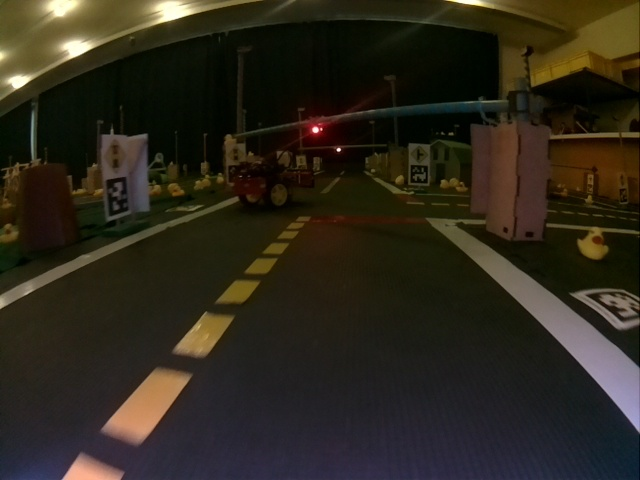Duckie: (578, 227, 608, 261), (456, 182, 466, 192)
Duckiebot: (234, 162, 314, 209)
Intersection sign: (410, 146, 427, 163)
QR code: (575, 289, 639, 328), (106, 177, 128, 216), (410, 165, 429, 182)
Signal sign: (104, 138, 126, 172)
Traffic light: (311, 122, 319, 134), (333, 146, 343, 155)
